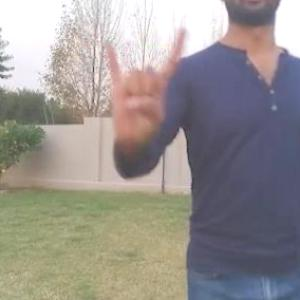takeoff-hand: (99, 24, 187, 146)
